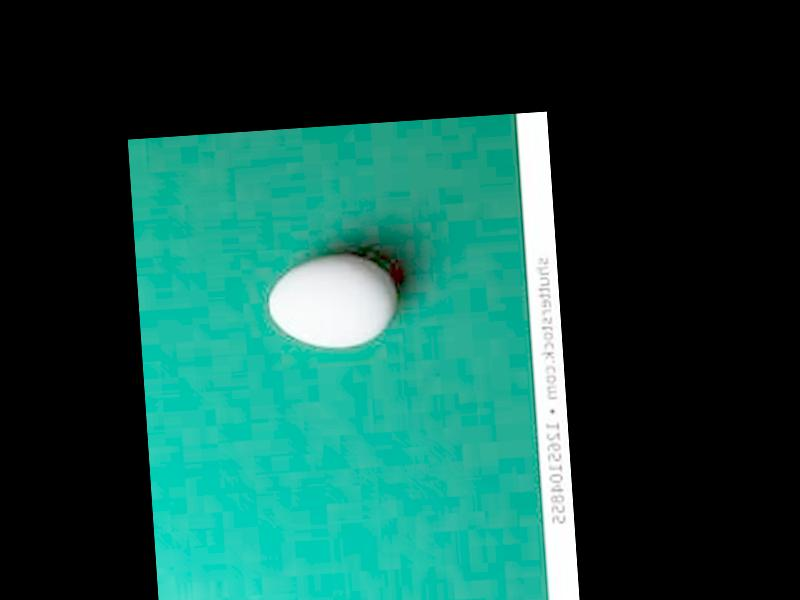Eggs: (267, 255, 399, 356)
